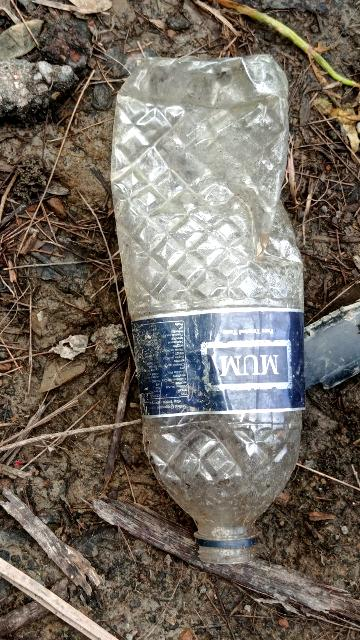bottle: (117, 33, 313, 544)
